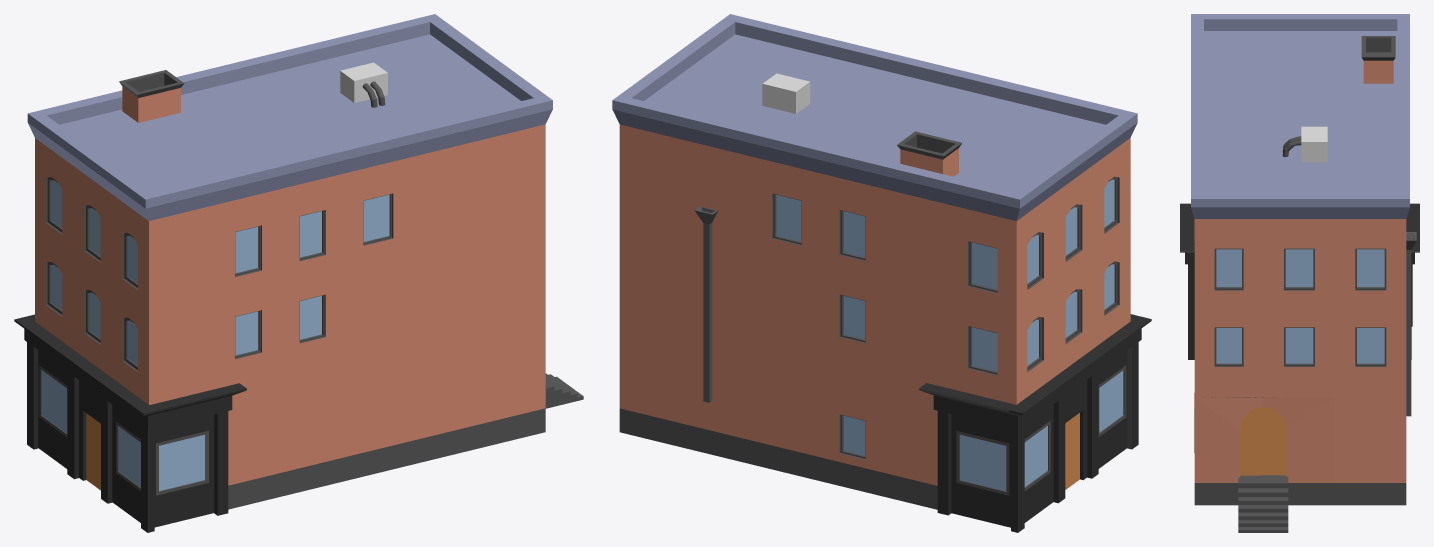
File: PrisonBuilding_01.fbx
3 renders of one model, left to right at view 1: azimuth 30°, elevation 25°; view 2: azimuth 150°, elevation 25°; view 3: azimuth 270°, elevation 25°, orthographic. The views are drawn at different scales.
Visible parts, largest first — view 1: Prison_Building; view 2: Prison_Building; view 3: Prison_Building.
Part boxes in pixels (x1,y1,x2,y2): Prison_Building: (14,14,583,532); Prison_Building: (612,14,1151,532); Prison_Building: (1180,14,1419,532).
Bounding box in the file's own units: 7.16 × 5.07 × 3.39.
